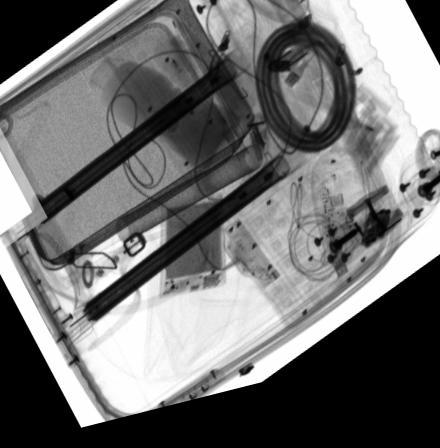Powerbank: (159, 202, 226, 307)
